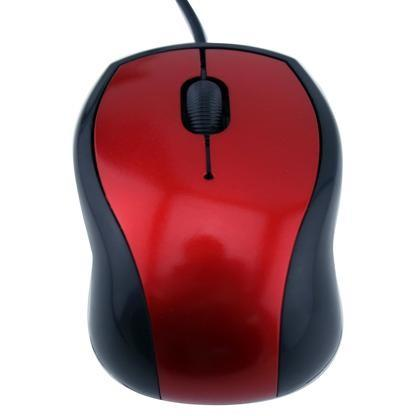not trash: (63, 42, 349, 407)
